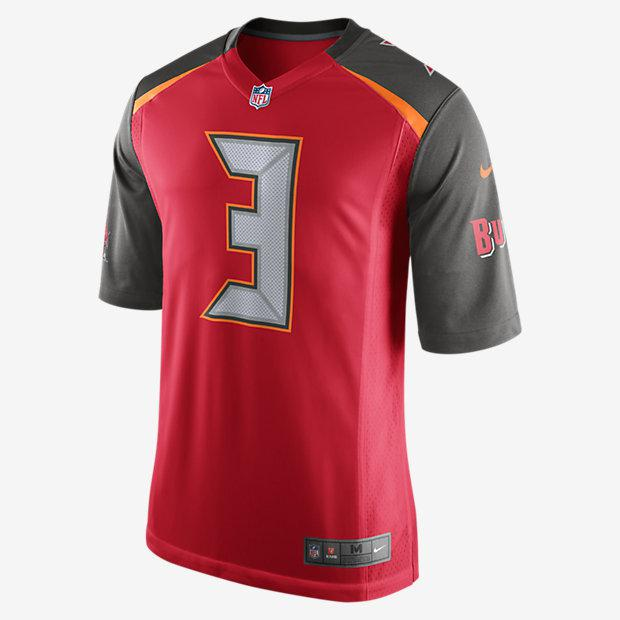teeshirt: (73, 11, 554, 618)
